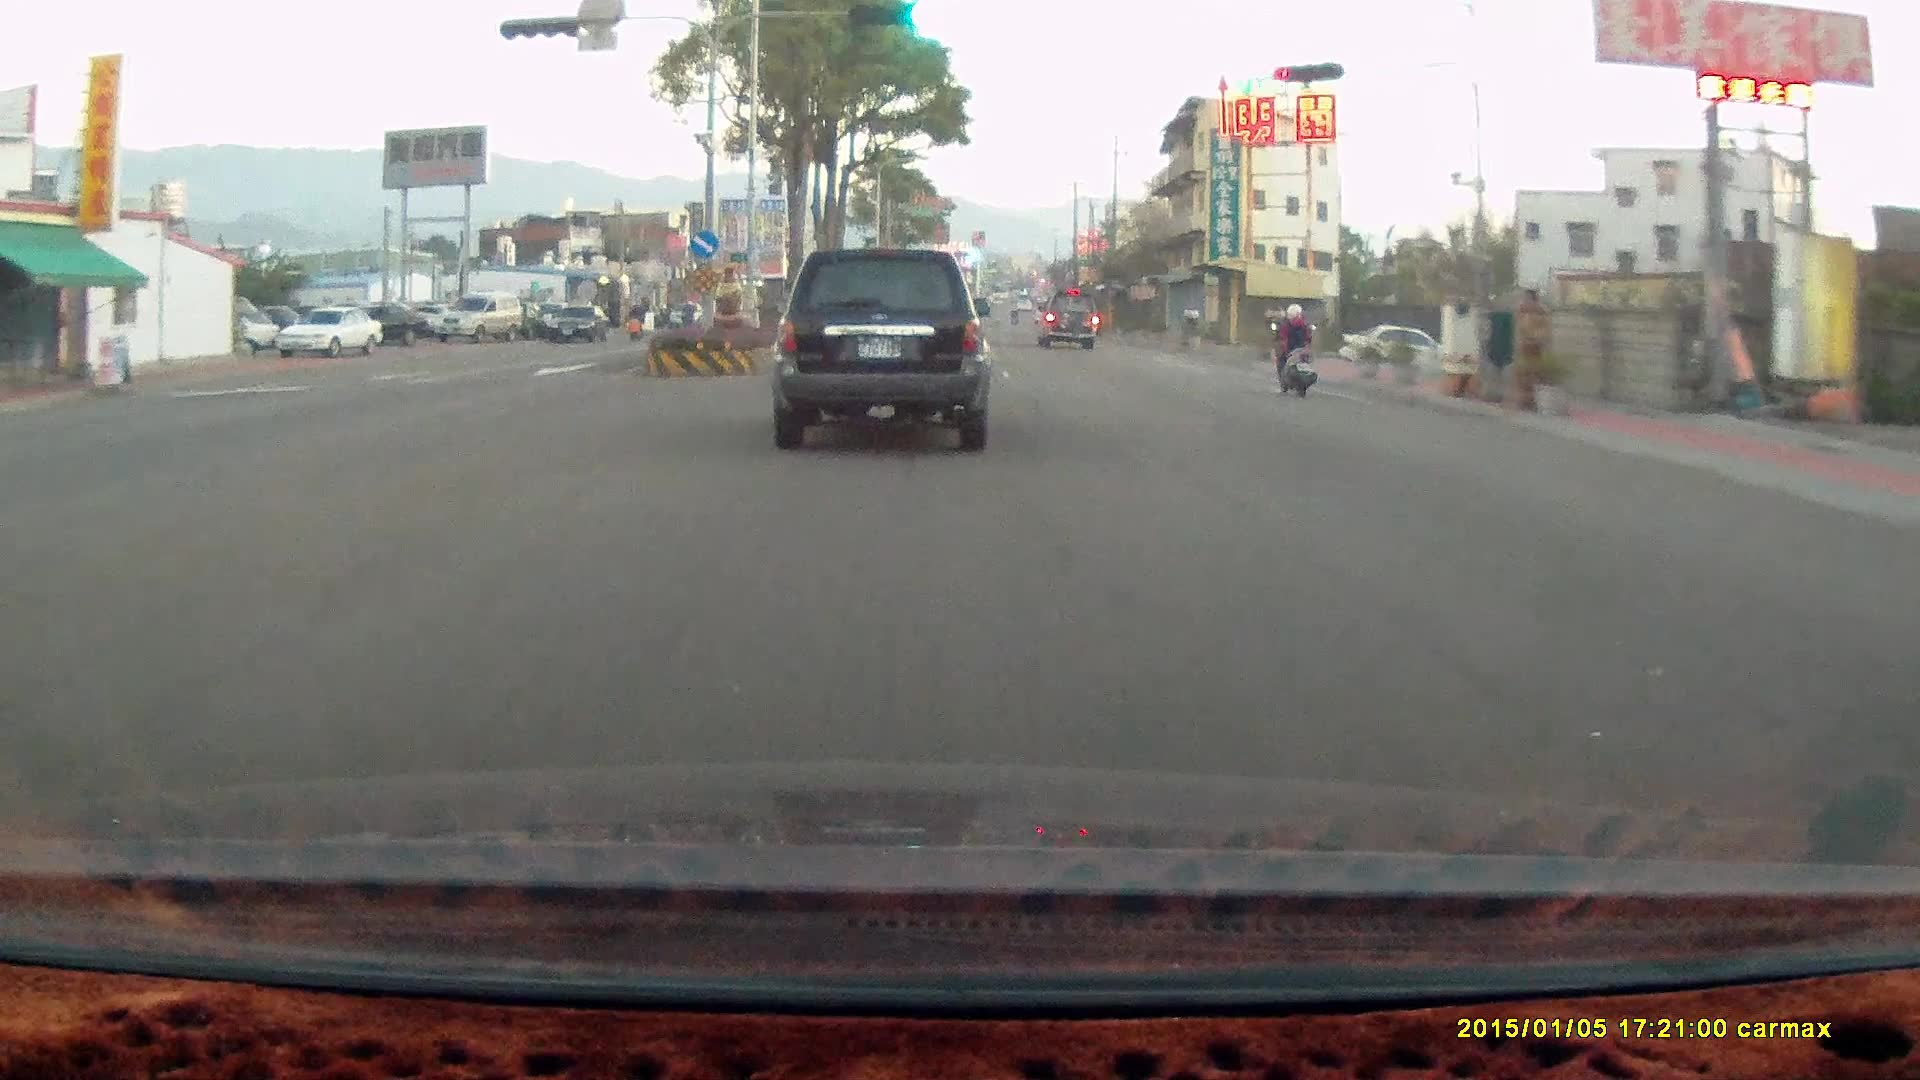rider: (1260, 295, 1326, 403), (1265, 300, 1314, 396)
vehicle: (779, 255, 1002, 461), (771, 249, 991, 451), (1336, 323, 1456, 375), (282, 309, 388, 364), (276, 305, 381, 359), (1344, 326, 1441, 376), (432, 293, 525, 345), (432, 292, 525, 344), (338, 305, 426, 348), (1034, 289, 1097, 348), (1040, 294, 1099, 358), (549, 307, 613, 347), (548, 304, 611, 343)
